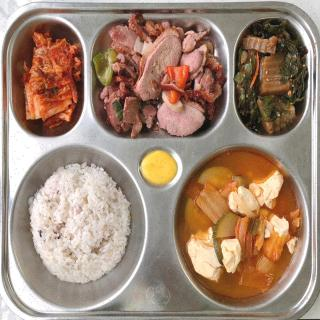Nasi: (26, 159, 134, 293)
